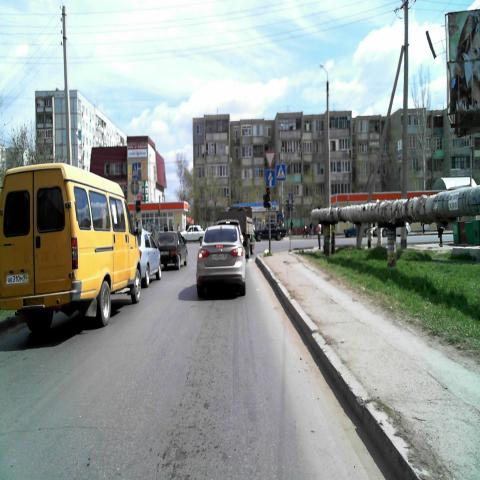5_6: (266, 169, 274, 187)
